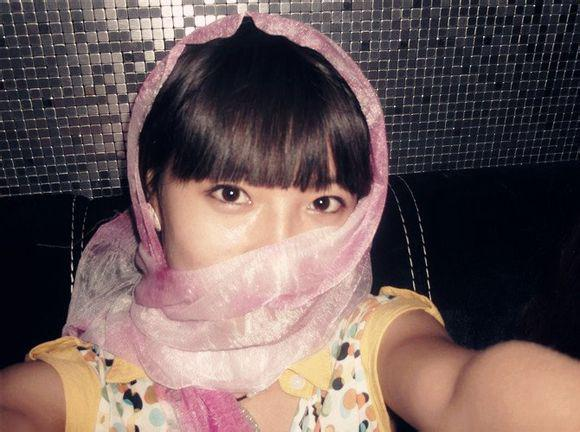WRONG: (172, 160, 359, 347)
